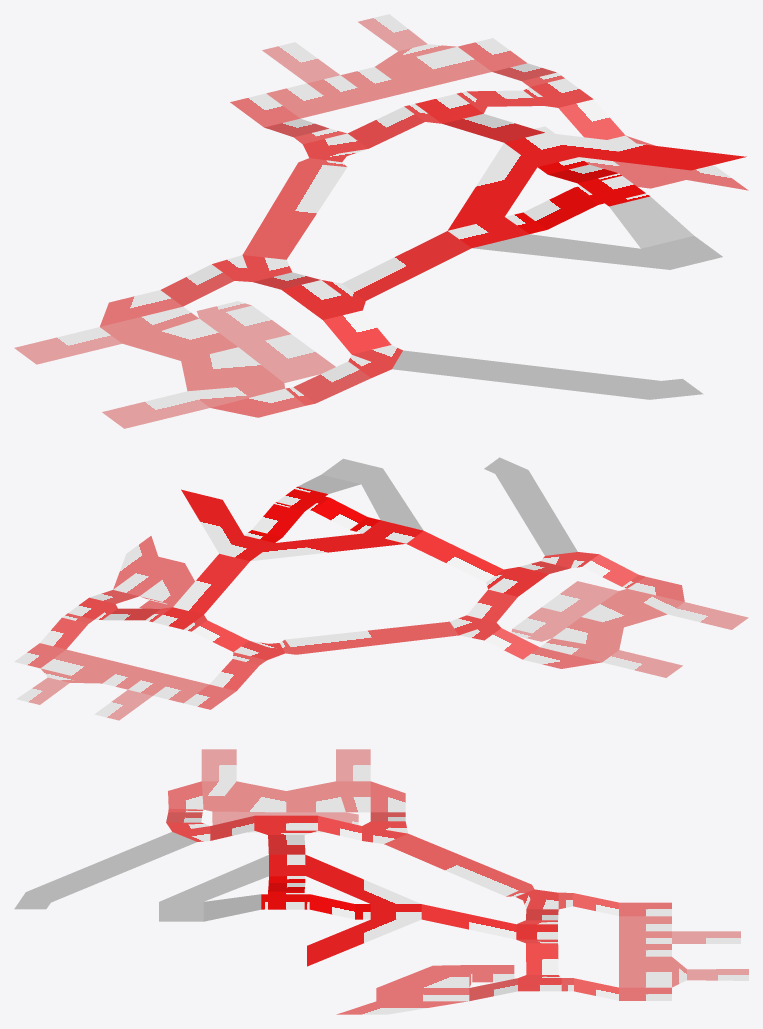
Rendered from Navi_2.FBX.
The picture shows the model from 3 angles, top to bottom: view 1: azimuth 30°, elevation 25°; view 2: azimuth 150°, elevation 25°; view 3: azimuth 270°, elevation 25°; orthographic projection. The views are drawn at different scales.
Visible parts, largest first — view 1: Plane001; view 2: Plane001; view 3: Plane001.
Boxes of the visible parts, x1,y1,x2,y2 form: Plane001: (14,14,748,428); Plane001: (14,457,748,720); Plane001: (14,749,748,1014).
Size of the model in its own units: 7215 by 639 by 8435.
